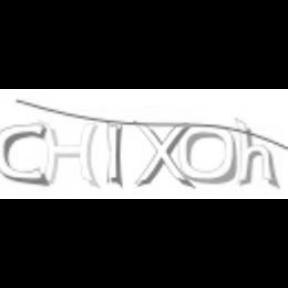C: (0, 120, 50, 188)
H: (39, 121, 101, 189)
I: (101, 118, 126, 190)
O: (176, 119, 238, 185)
X: (134, 116, 194, 190)
h: (234, 117, 282, 189)
